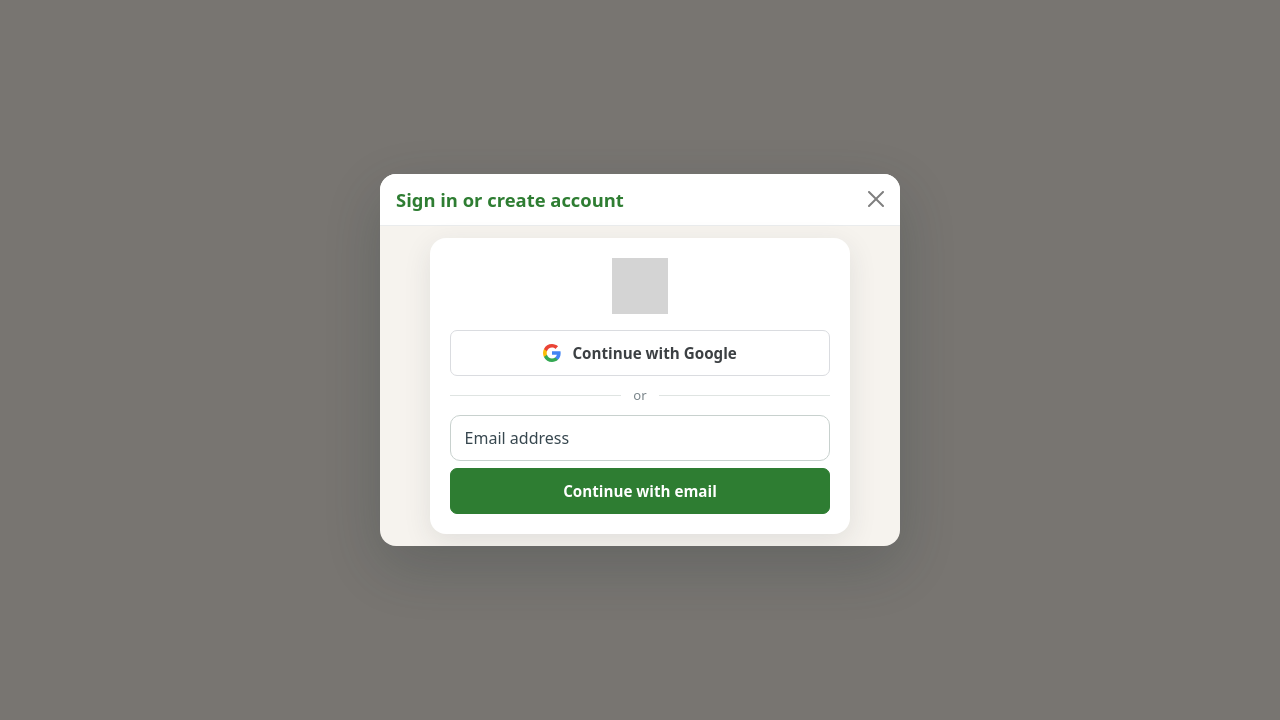
Test case: AuthModal › opens Get started account creation with email prefilled and a back button
The width and height of the screenshot is (1280, 720).
Step 1. Type "miriam@example.com" into the field labelled "Email address" → (640,438), box [451,416,829,460]
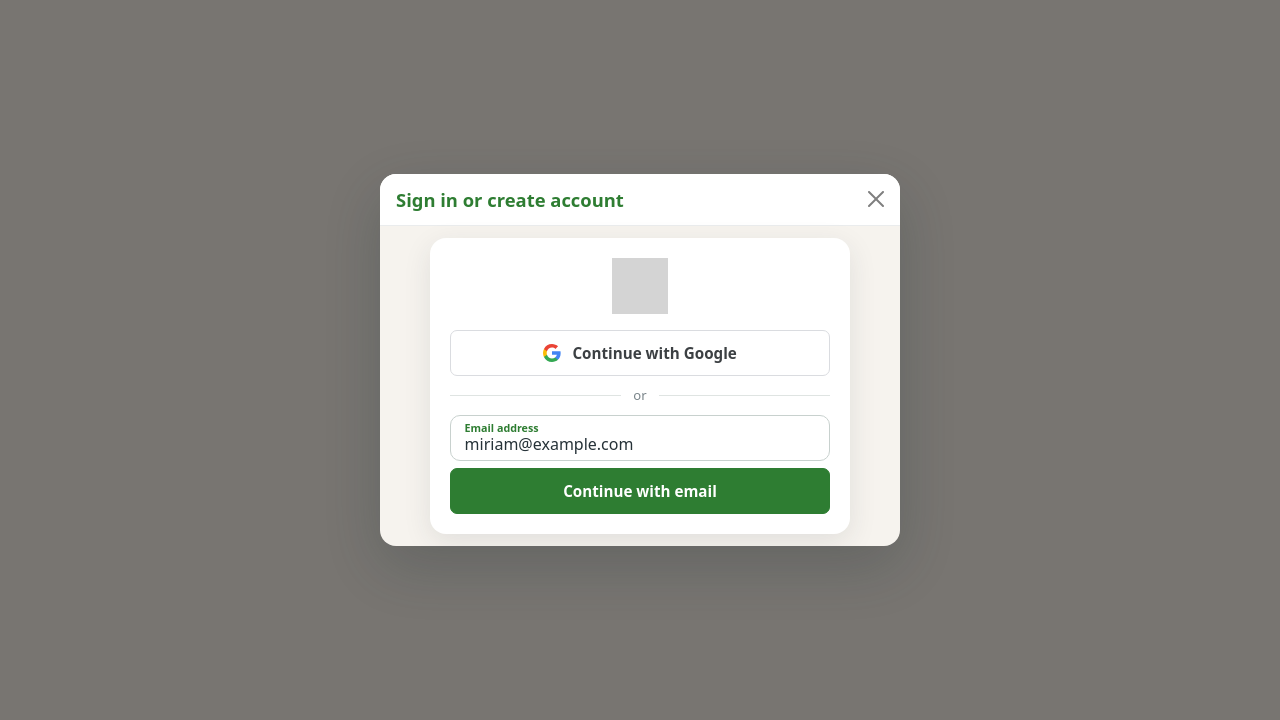
Step 2. Click the button "Continue with email" → (640,491), box [450,468,830,514]
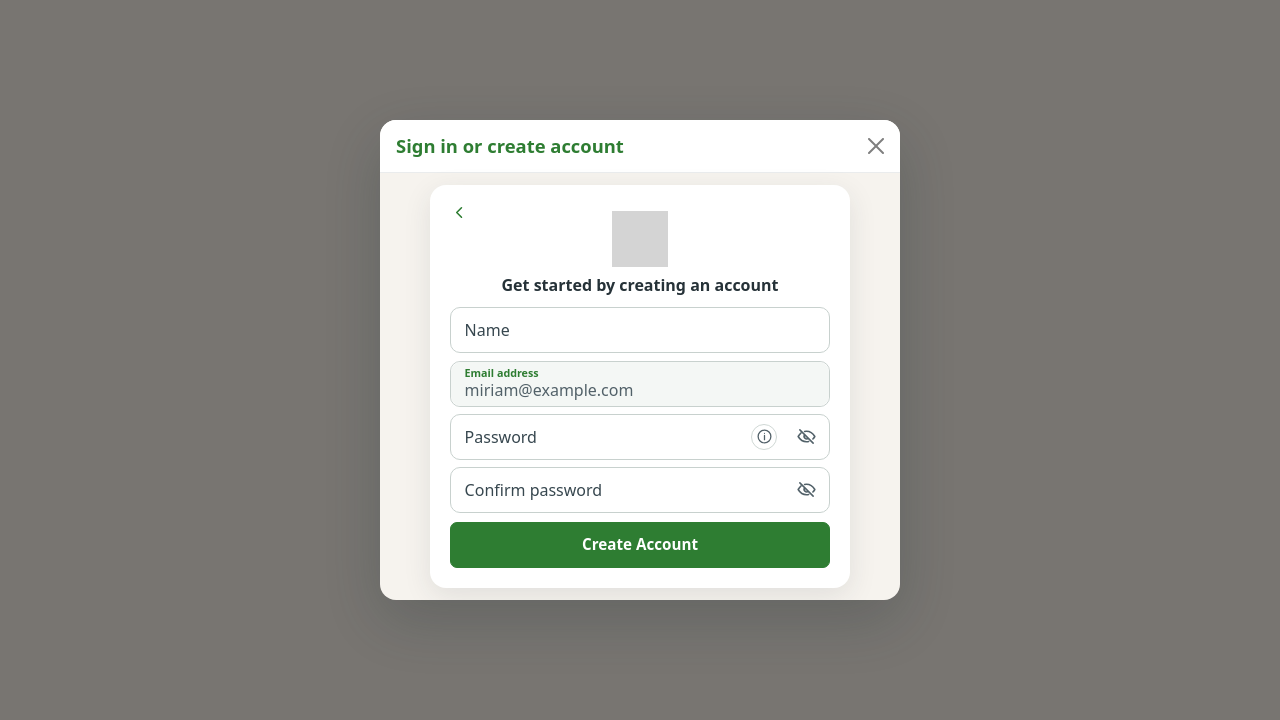
expect the heading "Get started by creating an account" is shown: met, box [502,274,778,296]
expect the button named "Back" is shown: met, box [442,195,476,229]
expect the field labelled "Name" is shown: met, box [451,308,829,352]
Step 3. Hover over the element named "View password requirements" below "Email address" → (764,437), box [751,424,777,450]
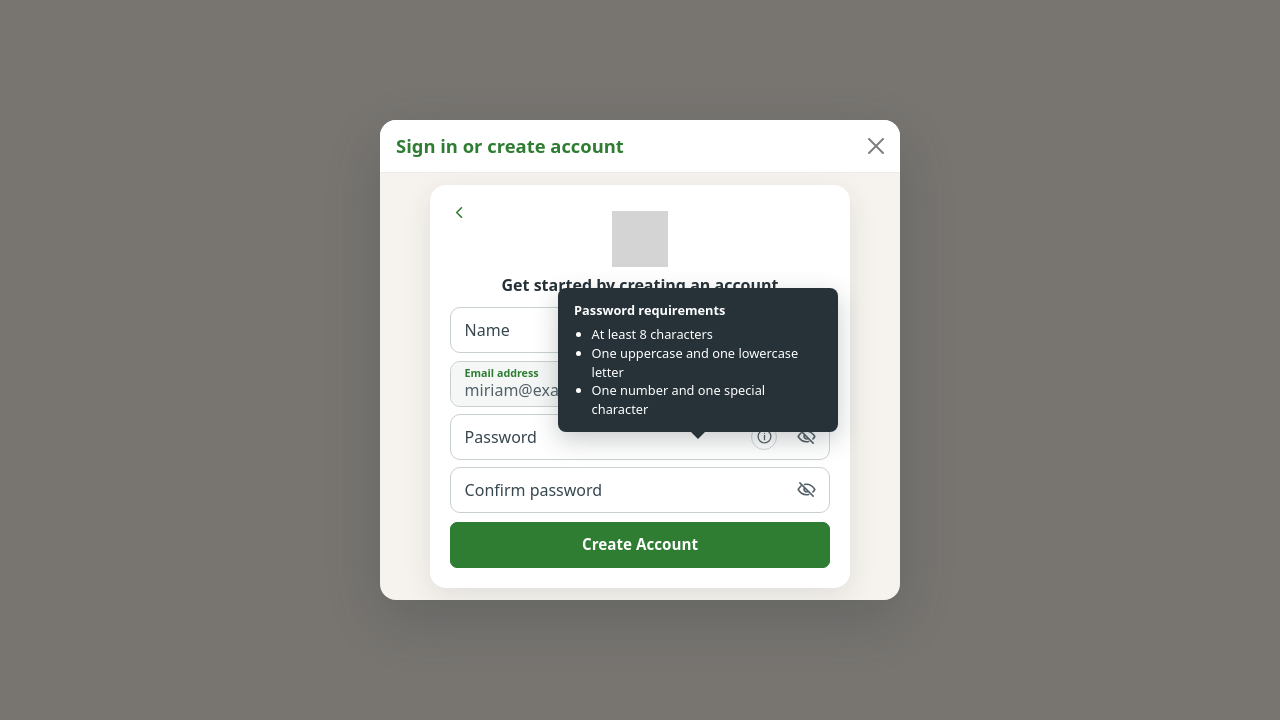
Step 4. Click the button named "Back" → (459,212), box [442,195,476,229]
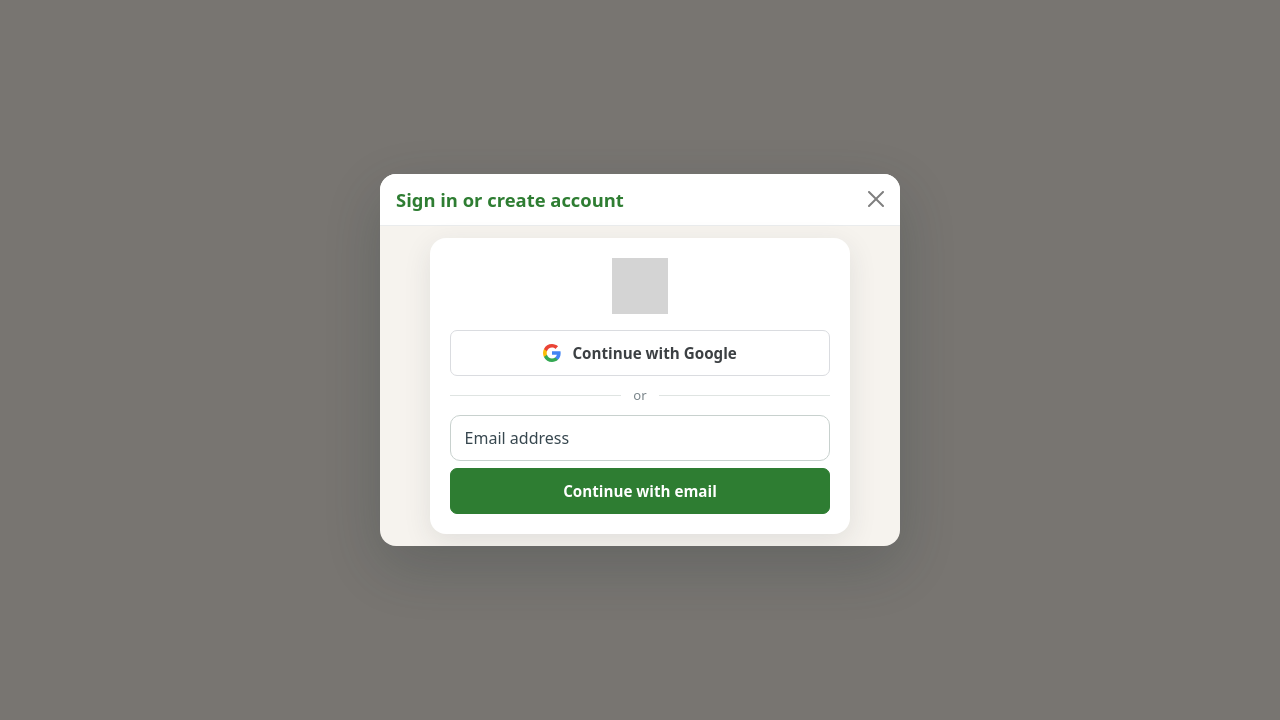
expect the heading "Sign in or create account" is shown: met, box [396,186,624,213]
expect the button "Continue with email" is shown: met, box [450,468,830,514]
expect the field labelled "Email address" is empty: met, box [451,416,829,460]
